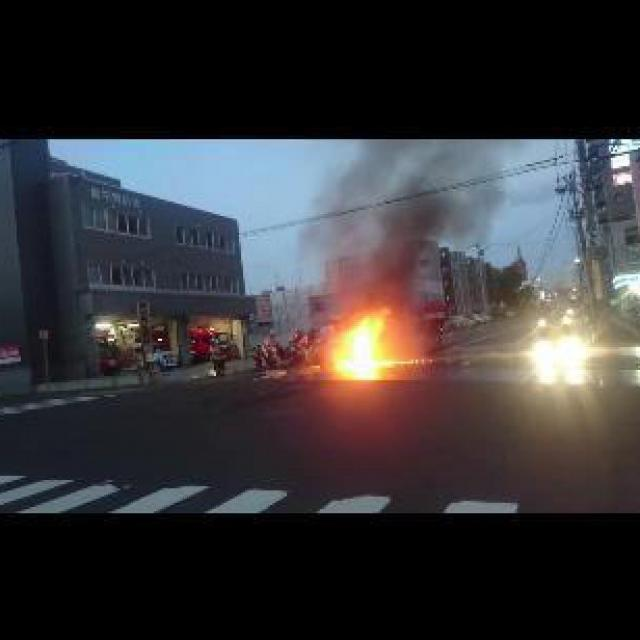fire: (328, 310, 428, 368)
smoke: (299, 144, 509, 308)
